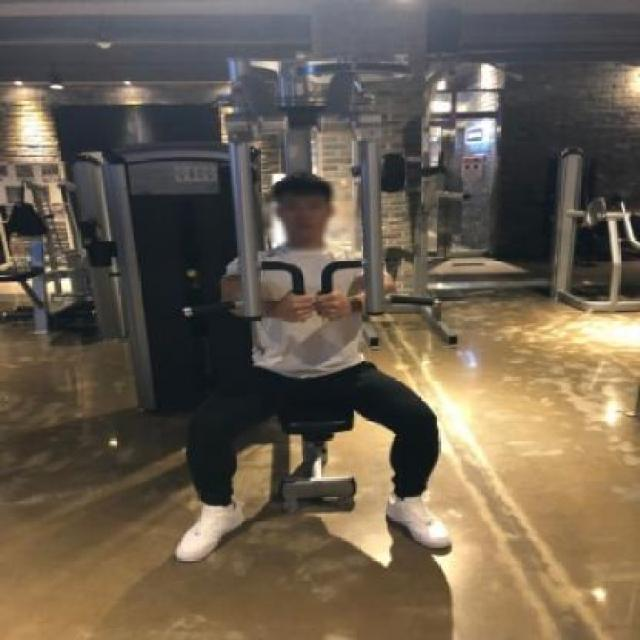chest fly machine: (71, 22, 503, 584)
